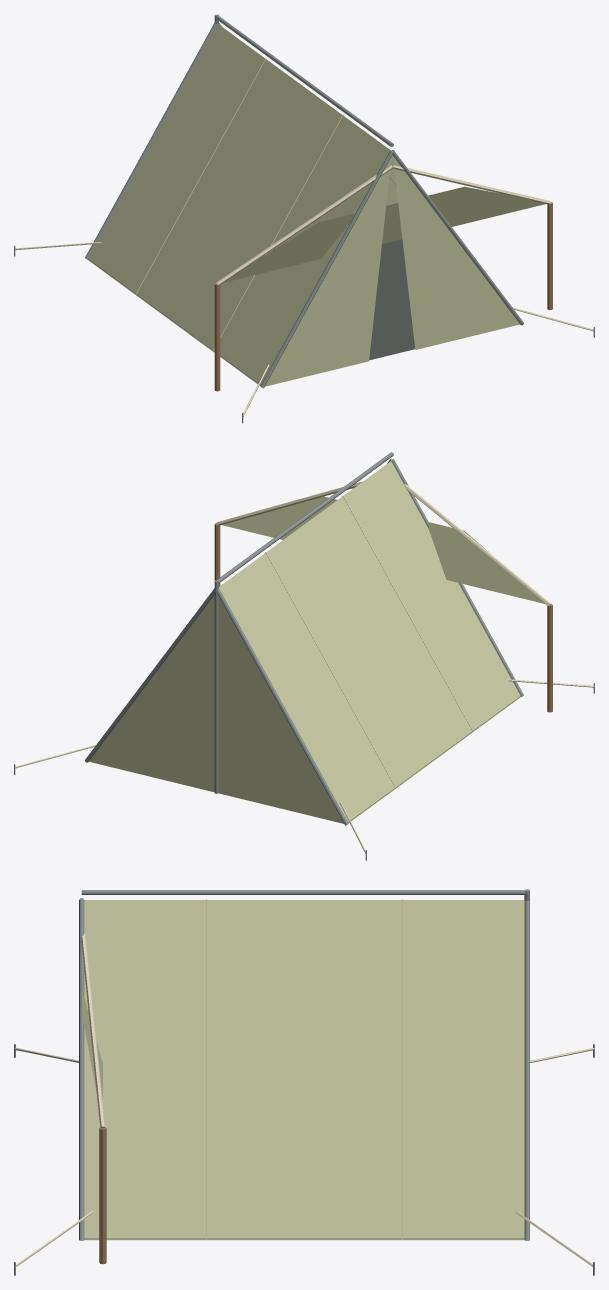
The model's file is Tent_Tarp_Large.fbx.
The picture shows the model from 3 angles, top to bottom: view 1: azimuth 30°, elevation 25°; view 2: azimuth 150°, elevation 25°; view 3: azimuth 270°, elevation 25°; orthographic projection. The views are drawn at different scales.
Parts seen in each view (by area): view 1: Tent_Tarp_Large_Geometry; view 2: Tent_Tarp_Large_Geometry; view 3: Tent_Tarp_Large_Geometry.
Boxes of the visible parts, bbox=[...] form: Tent_Tarp_Large_Geometry: bbox=[14, 14, 594, 423]; Tent_Tarp_Large_Geometry: bbox=[14, 452, 594, 860]; Tent_Tarp_Large_Geometry: bbox=[14, 889, 594, 1275].
Size of the model in its own units: 488 by 288 by 548.
